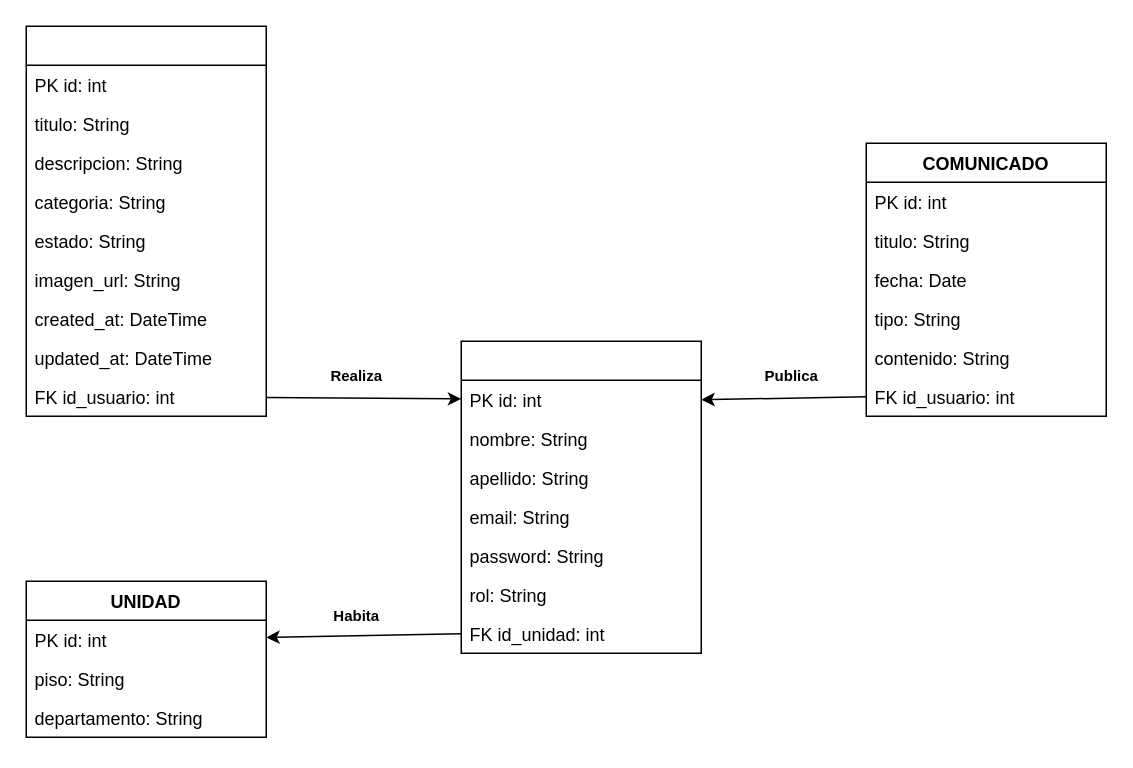
The diagram is 1133 pixels wide and 768 high, and some of its shapes have lost their labels. Here are the shapes that lost their labels. From the top down, the box of each, then its label:
(25, 25, 266, 416): RECLAMO
(460, 340, 701, 653): USUARIO
